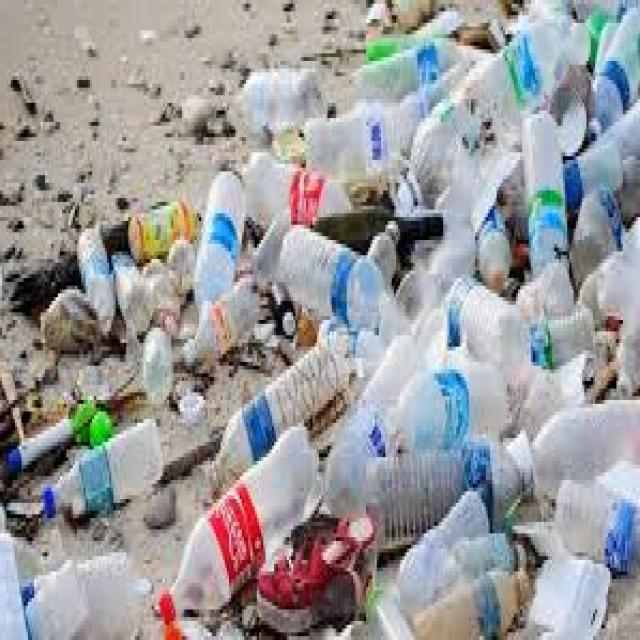glass: (307, 203, 445, 264)
plastic: (156, 421, 322, 630), (204, 337, 347, 492), (364, 438, 533, 556), (394, 48, 502, 226), (397, 528, 527, 628), (42, 419, 165, 521), (526, 396, 640, 506), (388, 356, 514, 450), (277, 230, 390, 332), (494, 0, 592, 113), (519, 106, 573, 308), (302, 105, 414, 192), (240, 152, 356, 235), (344, 36, 462, 114), (444, 274, 530, 380), (551, 478, 640, 579), (410, 570, 534, 640), (192, 168, 246, 324), (397, 489, 491, 578), (180, 274, 263, 372), (581, 11, 640, 140), (237, 62, 329, 133), (567, 178, 626, 284), (556, 143, 625, 209), (77, 222, 116, 335), (518, 310, 598, 365), (472, 187, 512, 294), (109, 248, 154, 338), (138, 257, 180, 330), (142, 321, 174, 406), (367, 216, 401, 284), (166, 235, 192, 302)
